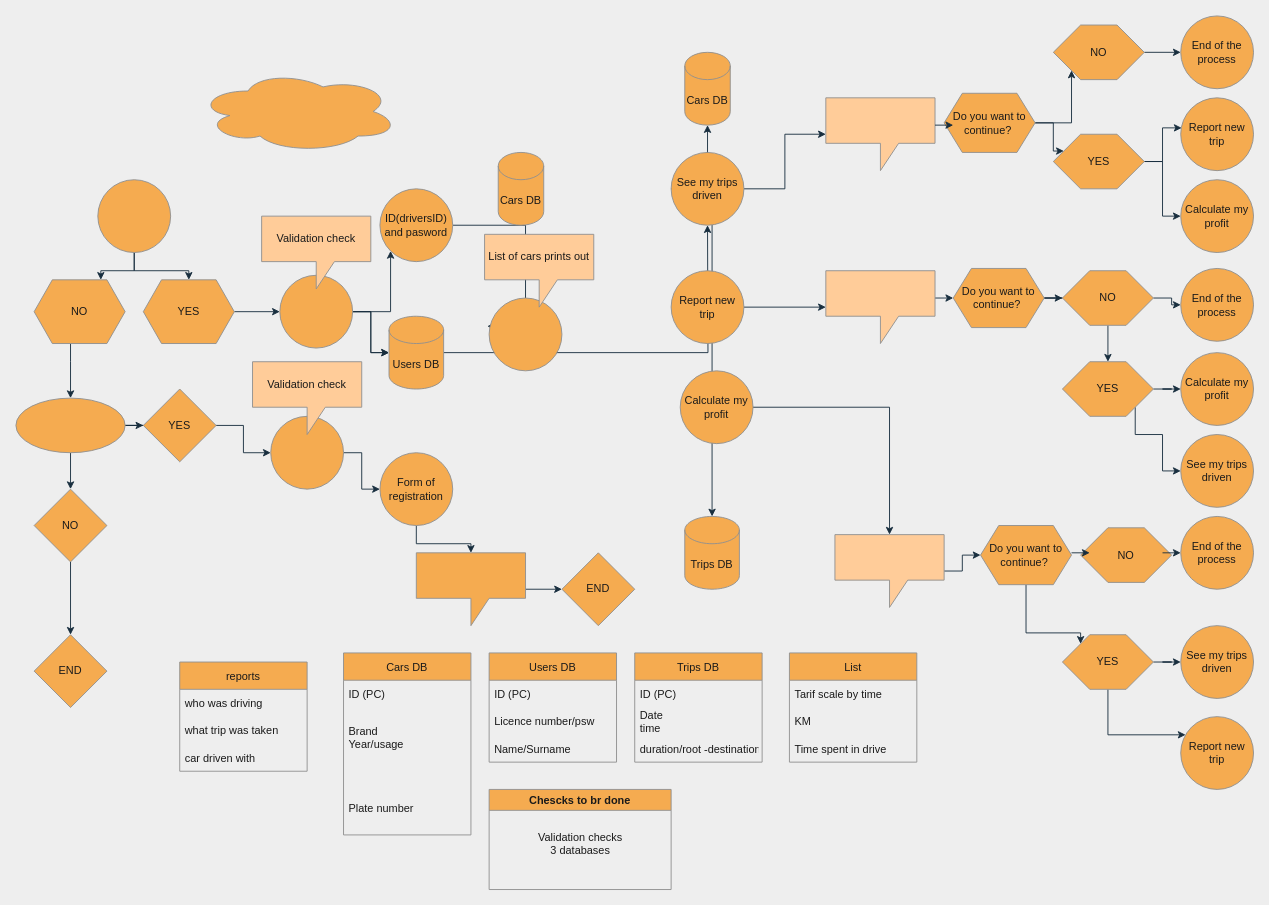
The diagram is 1269 pixels wide and 905 high, and some of its shapes have lost their labels. The centre of each missing label's shape, as x and y in pixels:
Are you our taxi driver?: the point at 134,216
Choose car driven with: the point at 525,334
Do you want to register?: the point at 70,425
List of trips gets printed out: the point at 880,134
Login: the point at 316,311
New trip gets reported: the point at 880,307
Our op will contact you in order to register your ID: the point at 470,589
Profit is calculated and printed out: the point at 889,570
registration: the point at 307,452
Wonderlands Lady Taxi app: the point at 297,111
